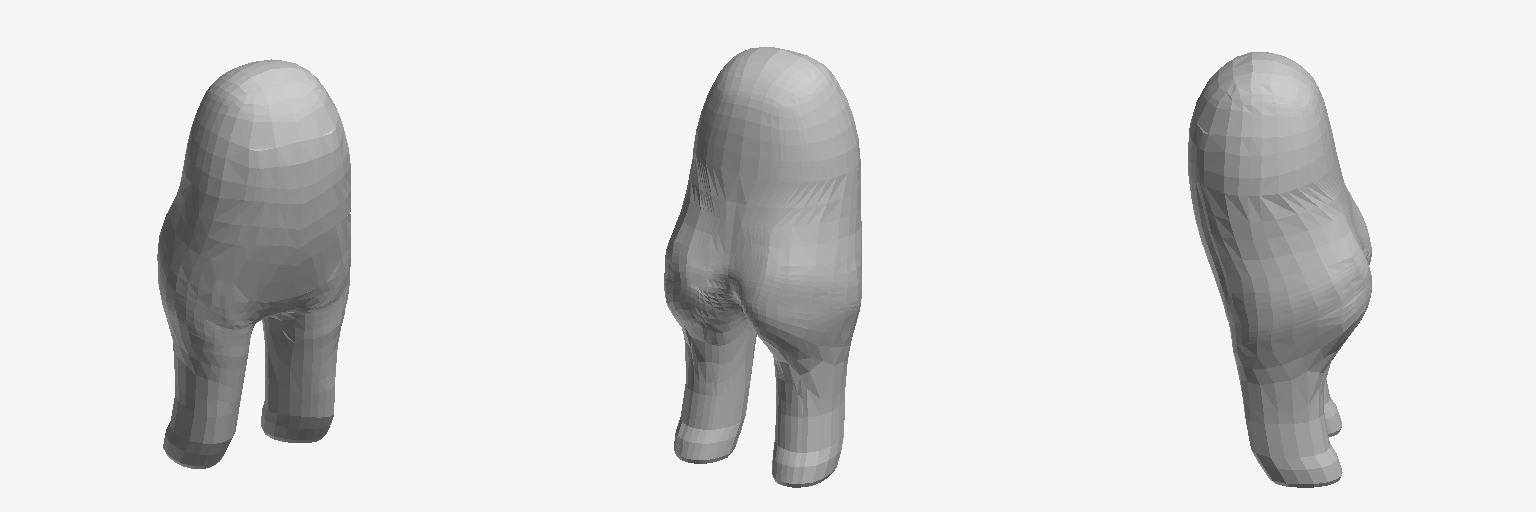
Rendered from sus.obj.
The picture shows the model from 3 angles: view 1: azimuth 30°, elevation 25°; view 2: azimuth 150°, elevation 25°; view 3: azimuth 270°, elevation 25°; orthographic projection.
Visible parts, largest first — view 1: Plano; view 2: Plano; view 3: Plano.
Part boxes in pixels (bbox=[...]): Plano: bbox=[157, 59, 350, 468]; Plano: bbox=[664, 47, 861, 487]; Plano: bbox=[1188, 52, 1371, 487].
Bounding box in the file's own units: 0.211 × 0.4633 × 0.1971.